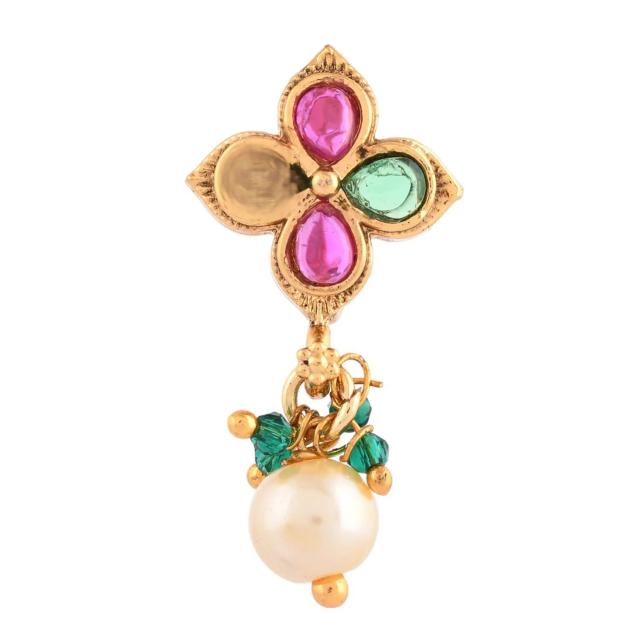missing gem: (221, 144, 310, 222)
